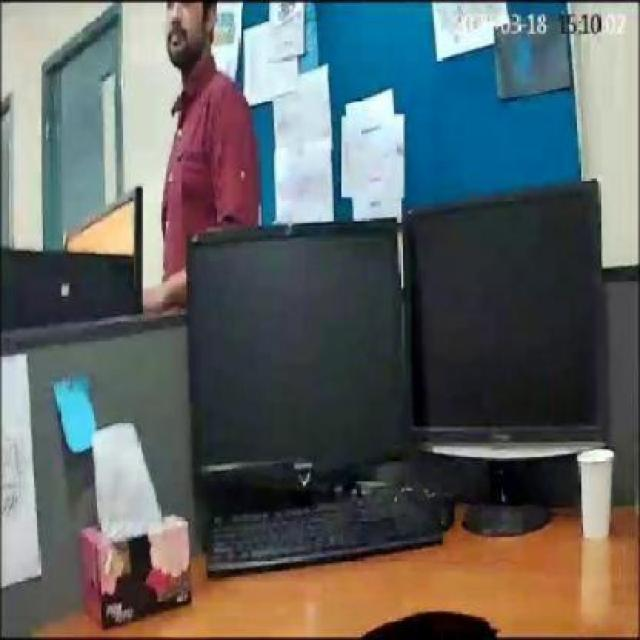spillage: (354, 612, 499, 640)
